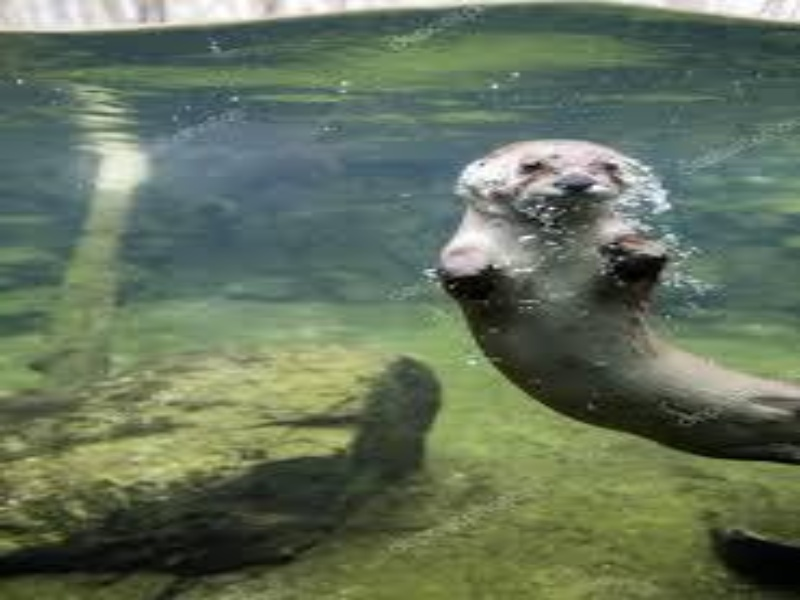minkish: (431, 135, 799, 471)
